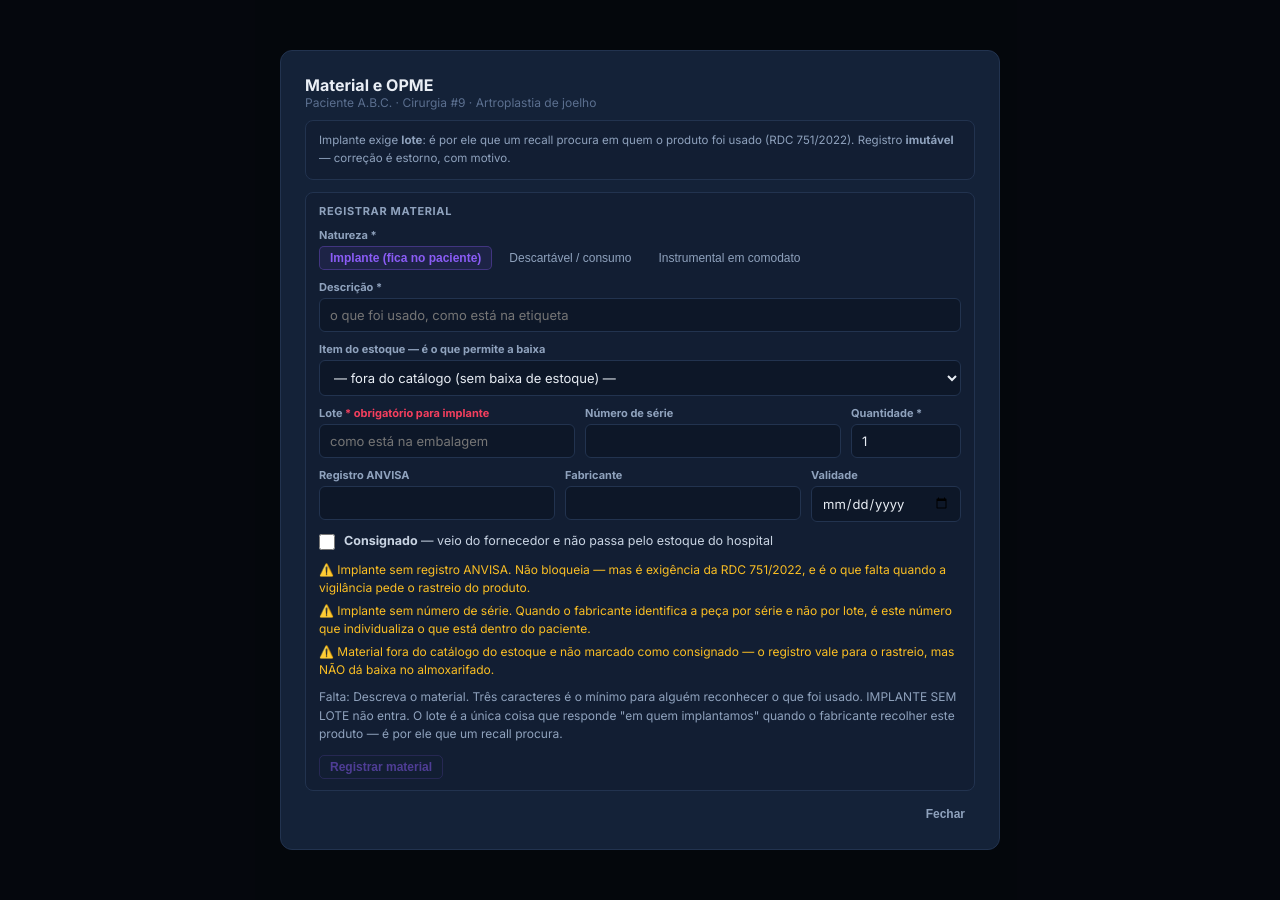
Test: o modal do material › 🔴 o rótulo do lote diz que é obrigatório para implante, e some para descartável
Expected: the text "* obrigatório para implante" is shown, [345, 406, 489, 420]
Click the button "Descartável / consumo".
click(570, 258)  # box [499, 246, 642, 270]
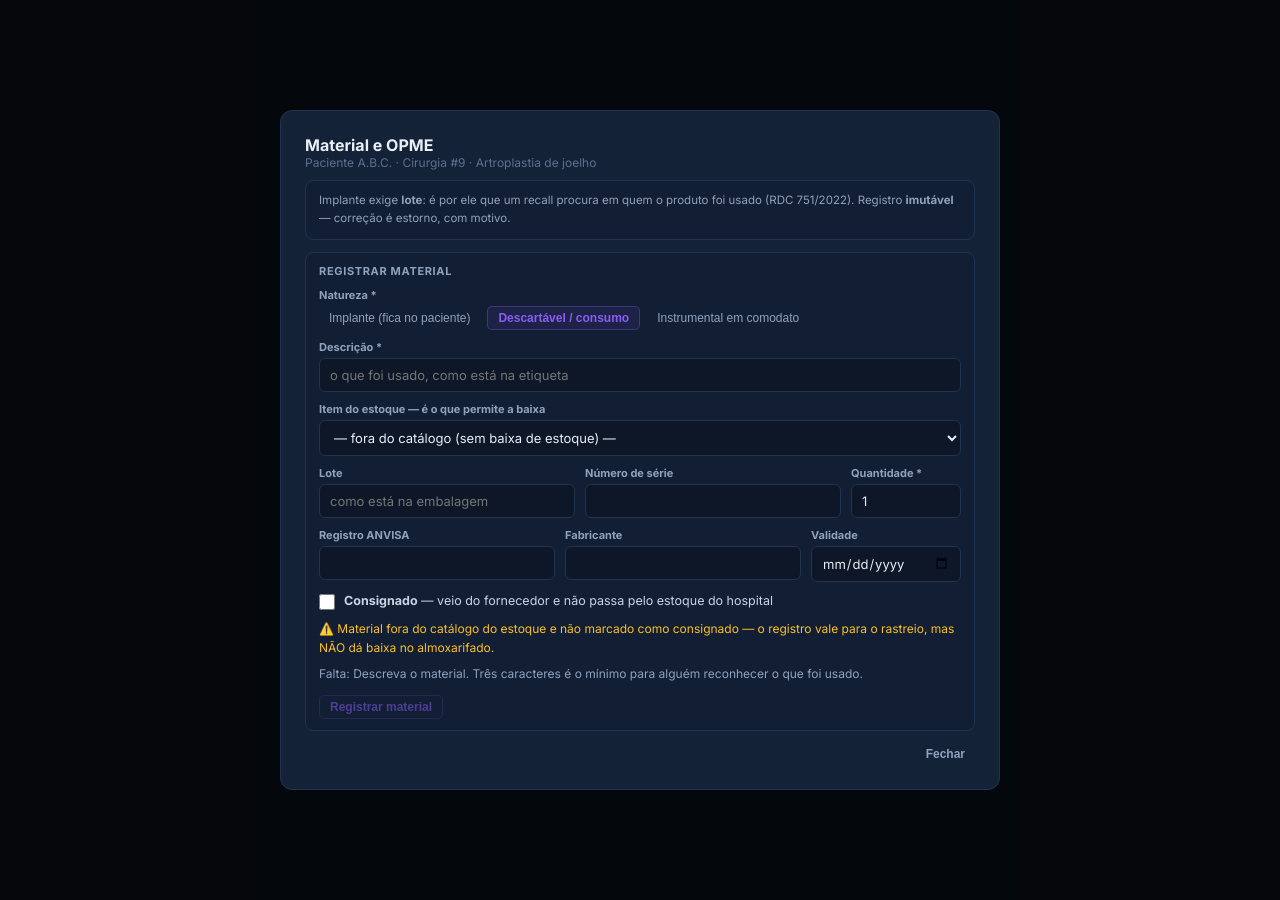
Expected: the text "obrigatório para implante" is gone
